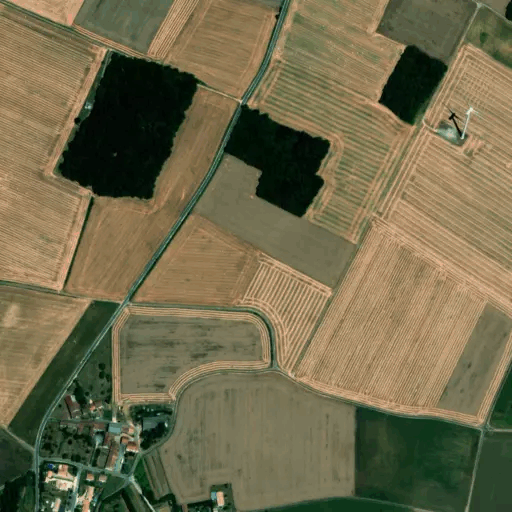wt: (436, 95, 486, 147)
